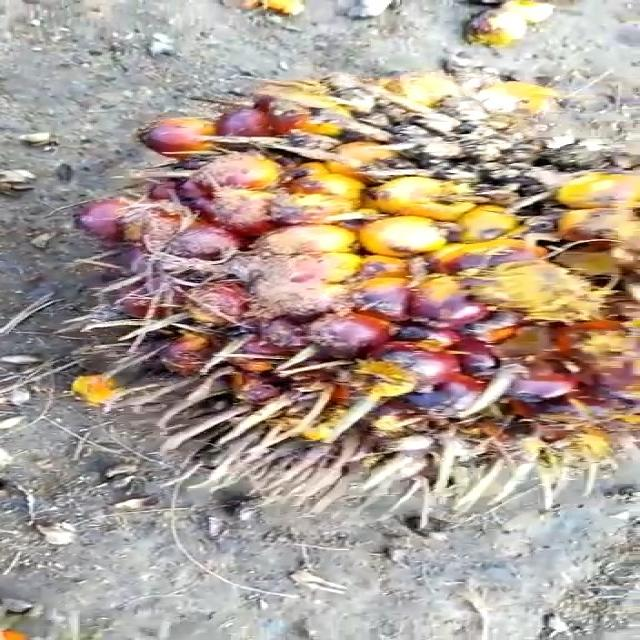palm oil: (56, 92, 640, 484)
